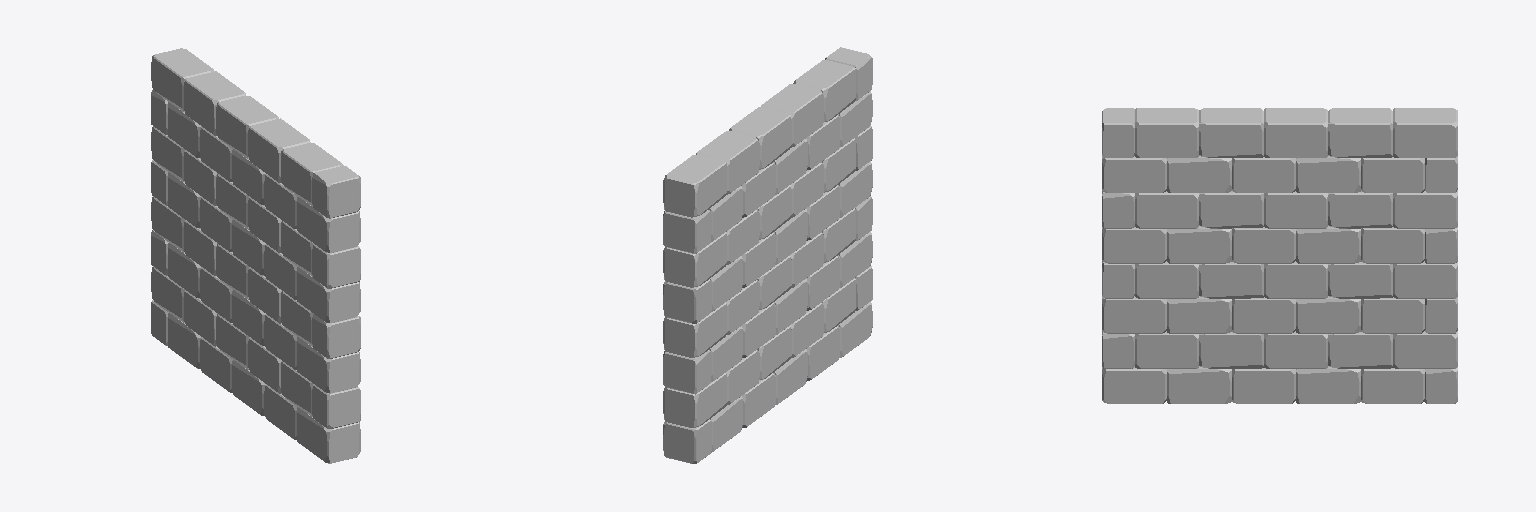
The model's file is Parede.obj.
The picture shows the model from 3 angles: view 1: azimuth 30°, elevation 25°; view 2: azimuth 150°, elevation 25°; view 3: azimuth 270°, elevation 25°; orthographic projection.
Parts seen in each view (by area): view 1: Cube.029; view 2: Cube.029; view 3: Cube.029.
Part boxes in pixels (left/top/right/bottom): Cube.029: left=151, top=48, right=360, bottom=463; Cube.029: left=663, top=47, right=872, bottom=463; Cube.029: left=1102, top=108, right=1457, bottom=403.
Bounding box in the file's own units: 0.3 × 2.4 × 2.75.